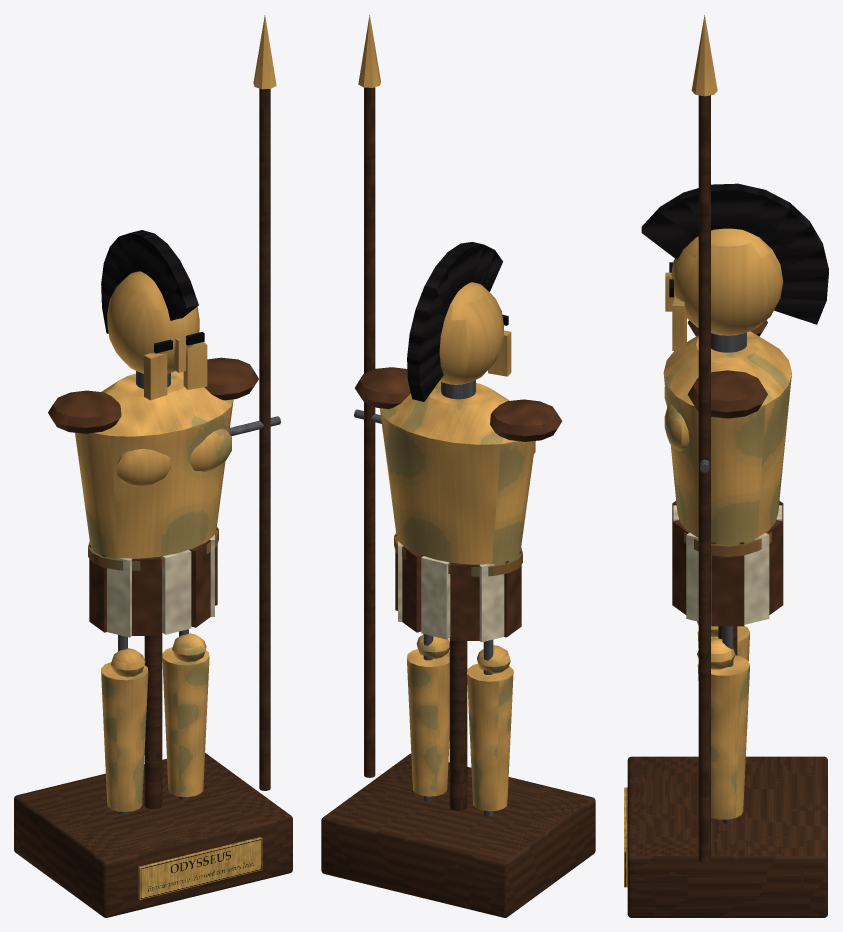
Rendered from armour_odysseus.gltf.
3 views of the same model, side by side, from view 1: azimuth 30°, elevation 25°; view 2: azimuth 150°, elevation 25°; view 3: azimuth 270°, elevation 25° (orthographic). The views are drawn at different scales.
Visible parts, largest first — view 1: ArmourOdysseus; view 2: ArmourOdysseus; view 3: ArmourOdysseus.
Part boxes in pixels (box(x1,y1,x2,y2)): ArmourOdysseus: box(14, 15, 292, 917); ArmourOdysseus: box(321, 15, 595, 917); ArmourOdysseus: box(624, 15, 828, 917).
Size of the model in its own units: 0.705 by 2.6 by 0.5311.
Materials: 3 (3 with a texture image).
